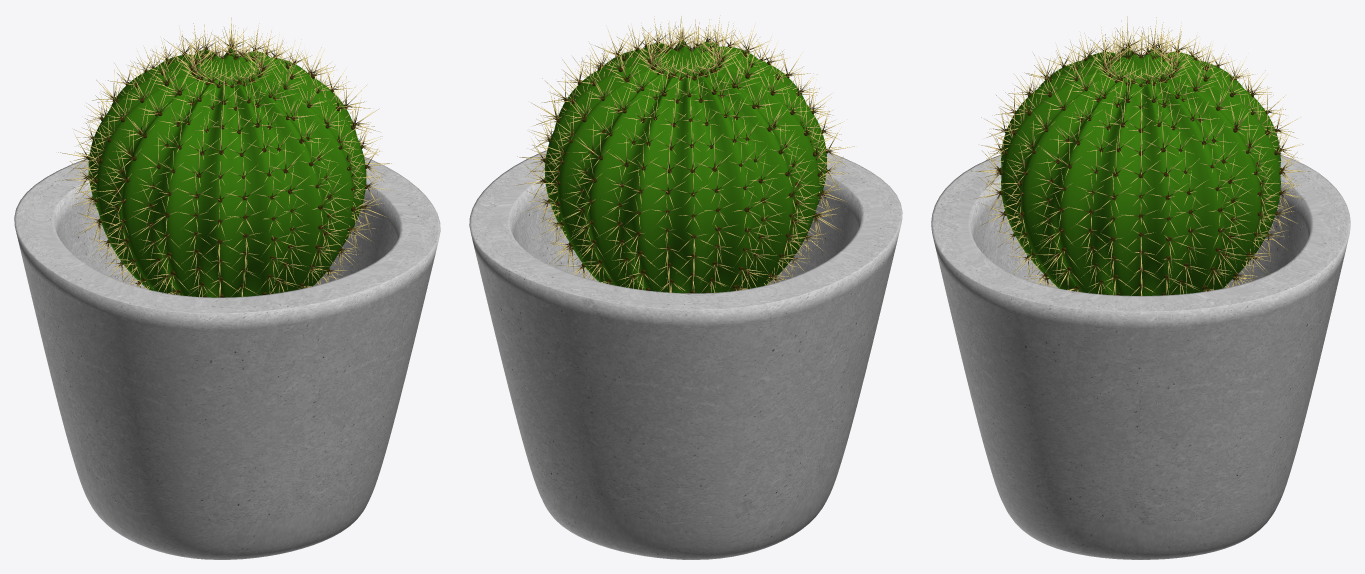
Rendered from PARODIA_LENINGHAUSII_CEMENT_ROUND_POT.glb.
3 renders of one model, left to right at view 1: azimuth 30°, elevation 25°; view 2: azimuth 150°, elevation 25°; view 3: azimuth 270°, elevation 25°, orthographic.
Parts seen in each view (by area): view 1: pot02_v1, Cactus Ball1; view 2: pot02_v1, Cactus Ball1; view 3: pot02_v1, Cactus Ball1.
Part boxes in pixels (x1,y1,x2,y2): pot02_v1: [14, 157, 440, 559]; Cactus Ball1: [88, 48, 366, 297]; pot02_v1: [469, 150, 902, 559]; Cactus Ball1: [545, 40, 826, 293]; pot02_v1: [931, 155, 1350, 559]; Cactus Ball1: [1001, 48, 1280, 295].
Size of the model in its own units: 1.12 by 1.39 by 1.12.
3 materials, 2 textured.
